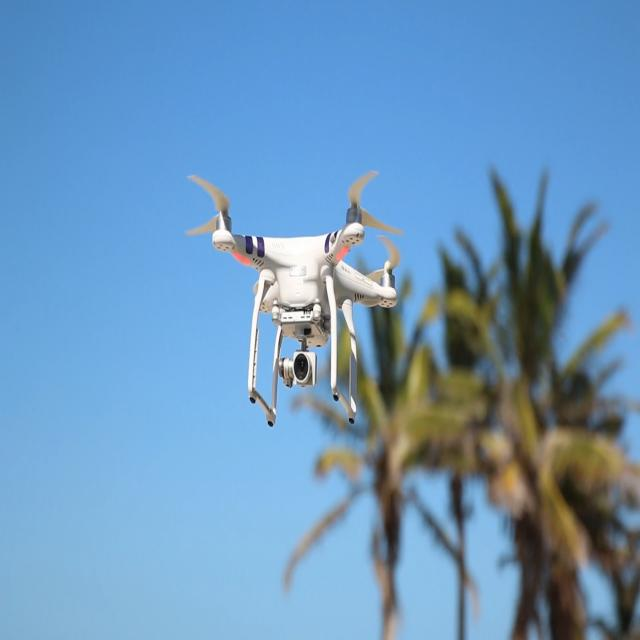Drone: (171, 156, 433, 425)
